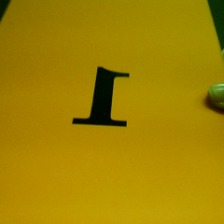orange1: (68, 61, 133, 132)
